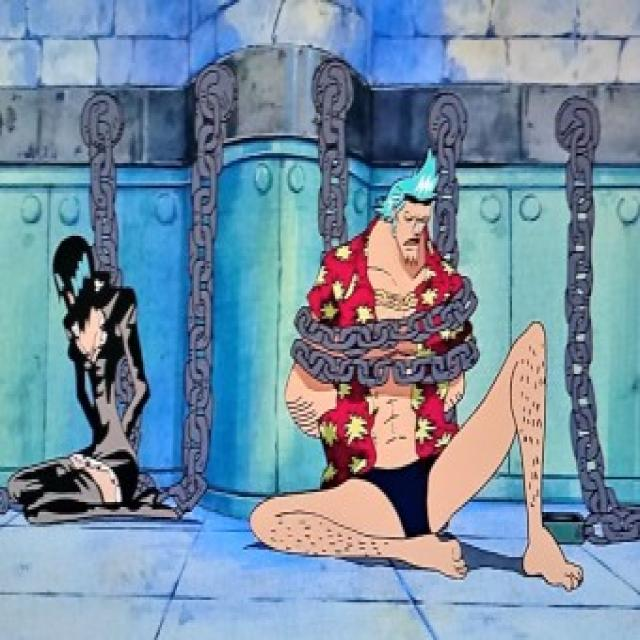Franky: (362, 148, 457, 280)
NicoRobin: (45, 222, 149, 344)
